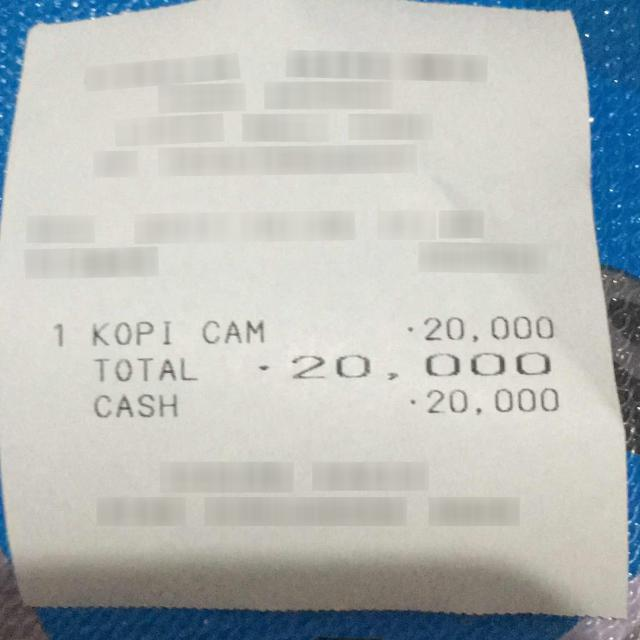text: (256, 350, 551, 382), (406, 313, 552, 343), (408, 387, 557, 416), (94, 357, 196, 381), (93, 393, 176, 417), (91, 321, 169, 345), (201, 319, 264, 344), (54, 324, 66, 346)
